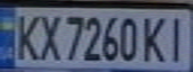0: (118, 14, 142, 63)
2: (81, 11, 103, 62)
6: (100, 12, 121, 63)
7: (60, 11, 84, 62)
I: (163, 12, 193, 64)
K: (139, 12, 172, 64), (9, 10, 42, 62)
X: (33, 11, 63, 62)
